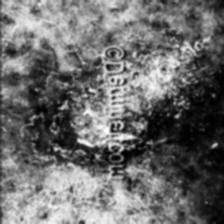Non-Cancerous Skin Condition: (32, 33, 216, 182)
